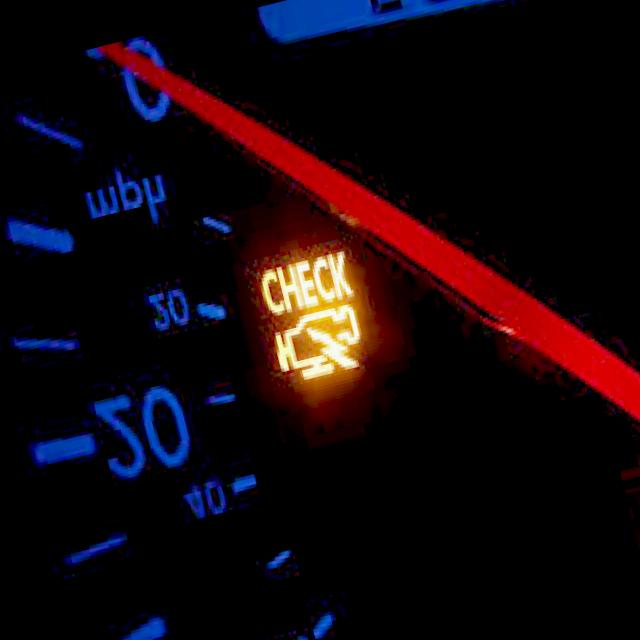kontrolka: (239, 235, 383, 402)
